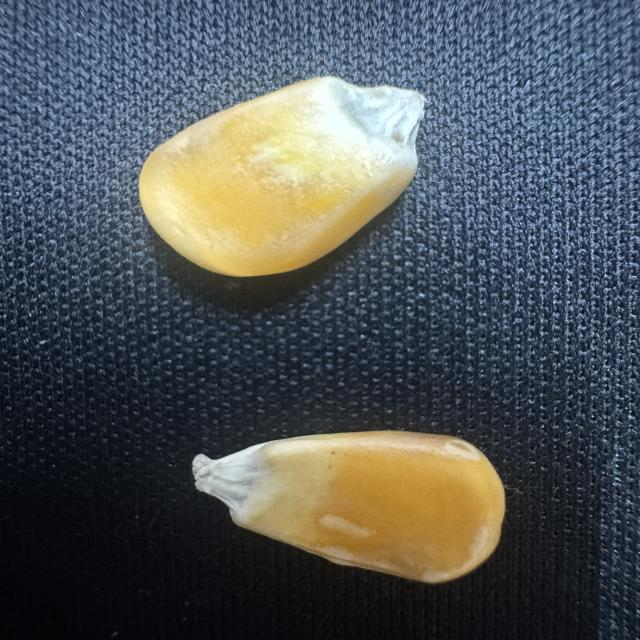Good-Seed: (132, 64, 430, 286), (189, 424, 517, 596)
